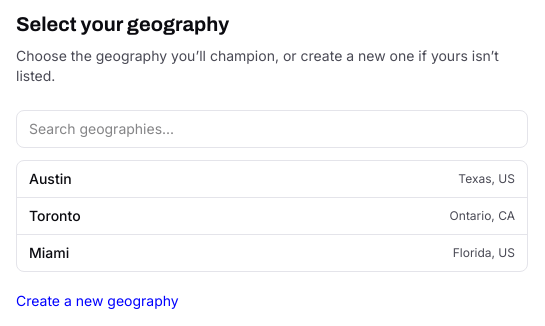
Scenario: GeographyPicker › filters geographies by search text
In the field with placeholder "Search geographies...": [272, 129] box [16, 110, 528, 148], type "tor"
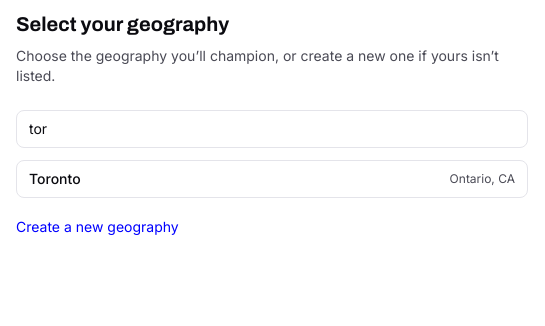
Expected: the text "Toronto" is shown, [29, 169, 81, 189]
Now the button "Austin" is gone
Now the button "Miami" is gone
